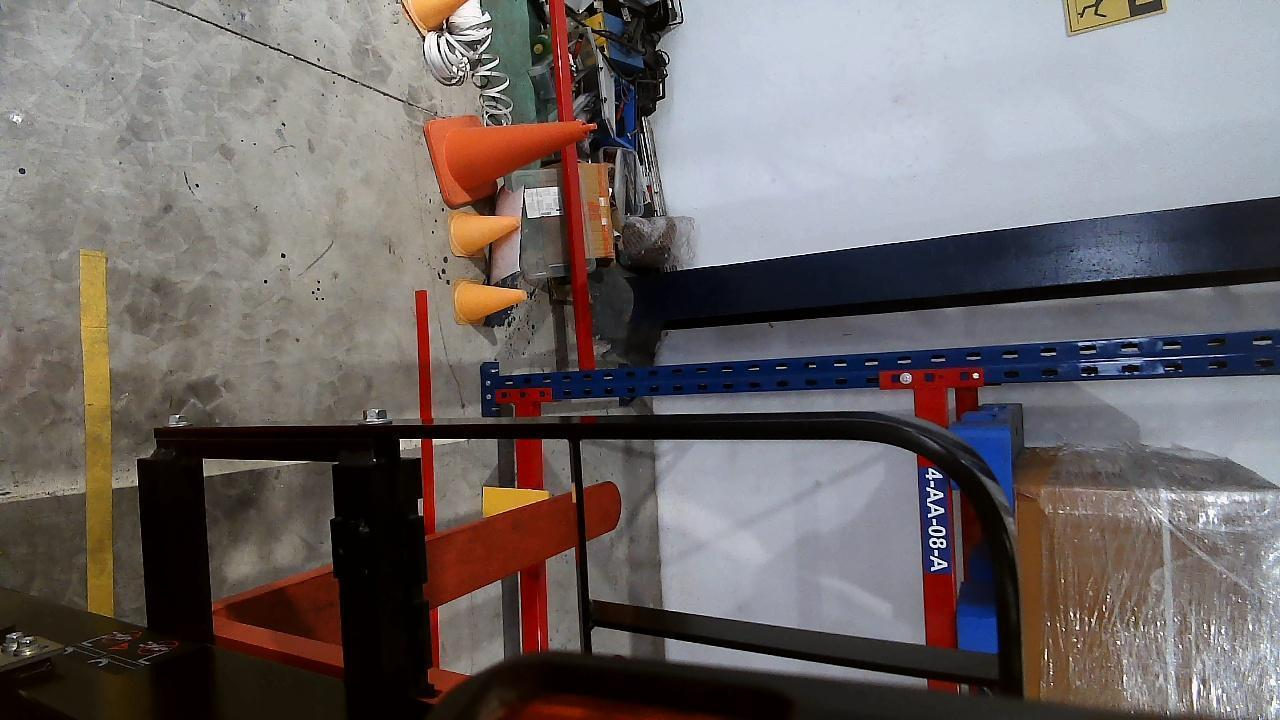red_line: (416, 288, 442, 673)
yellow_line: (80, 251, 115, 616)
